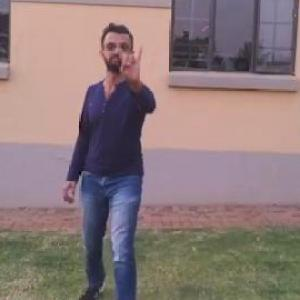takeoff-hand: (114, 38, 152, 86)
